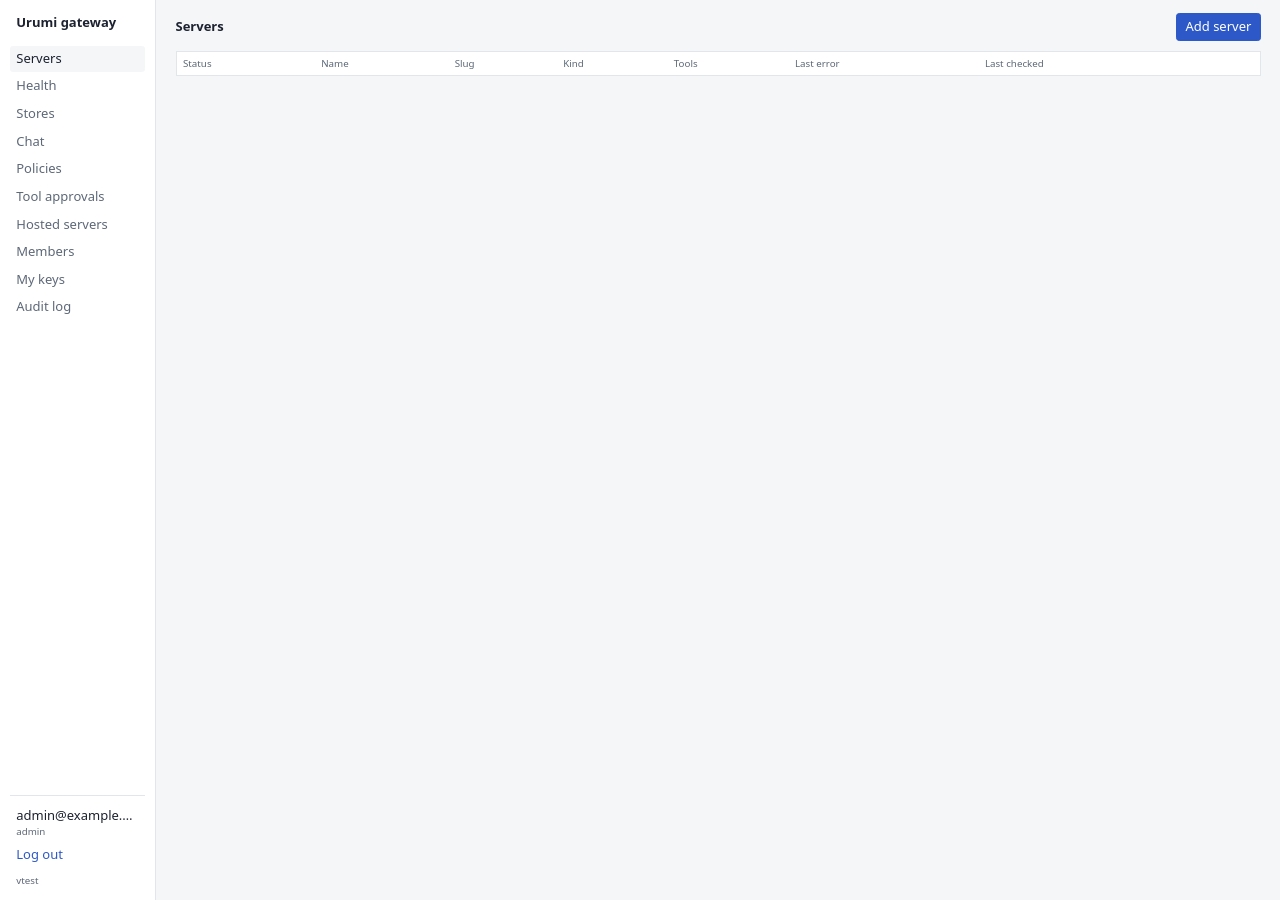
it: Hosted servers page through the real routes › admin sees the nav entry and the table
This screenshot has width=1280, height=900.
Step 1. Click the link "Hosted servers" → click(62, 224), box [16, 214, 108, 232]
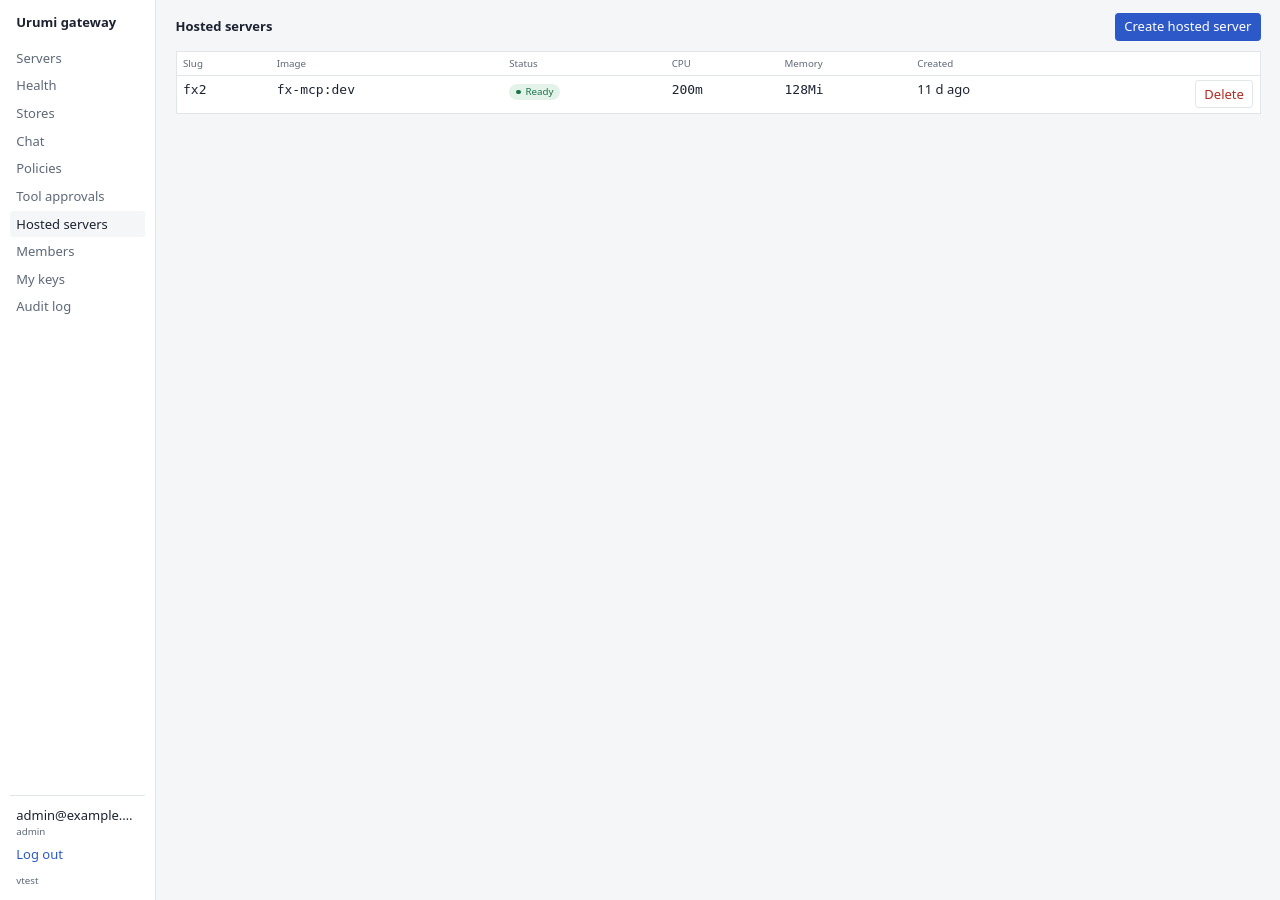
Now the heading "Hosted servers" is shown, box [176, 17, 272, 37]
Now the text "fx-mcp:dev" is shown, box [270, 75, 503, 114]
Now the text "200m" is shown, box [665, 75, 778, 114]
